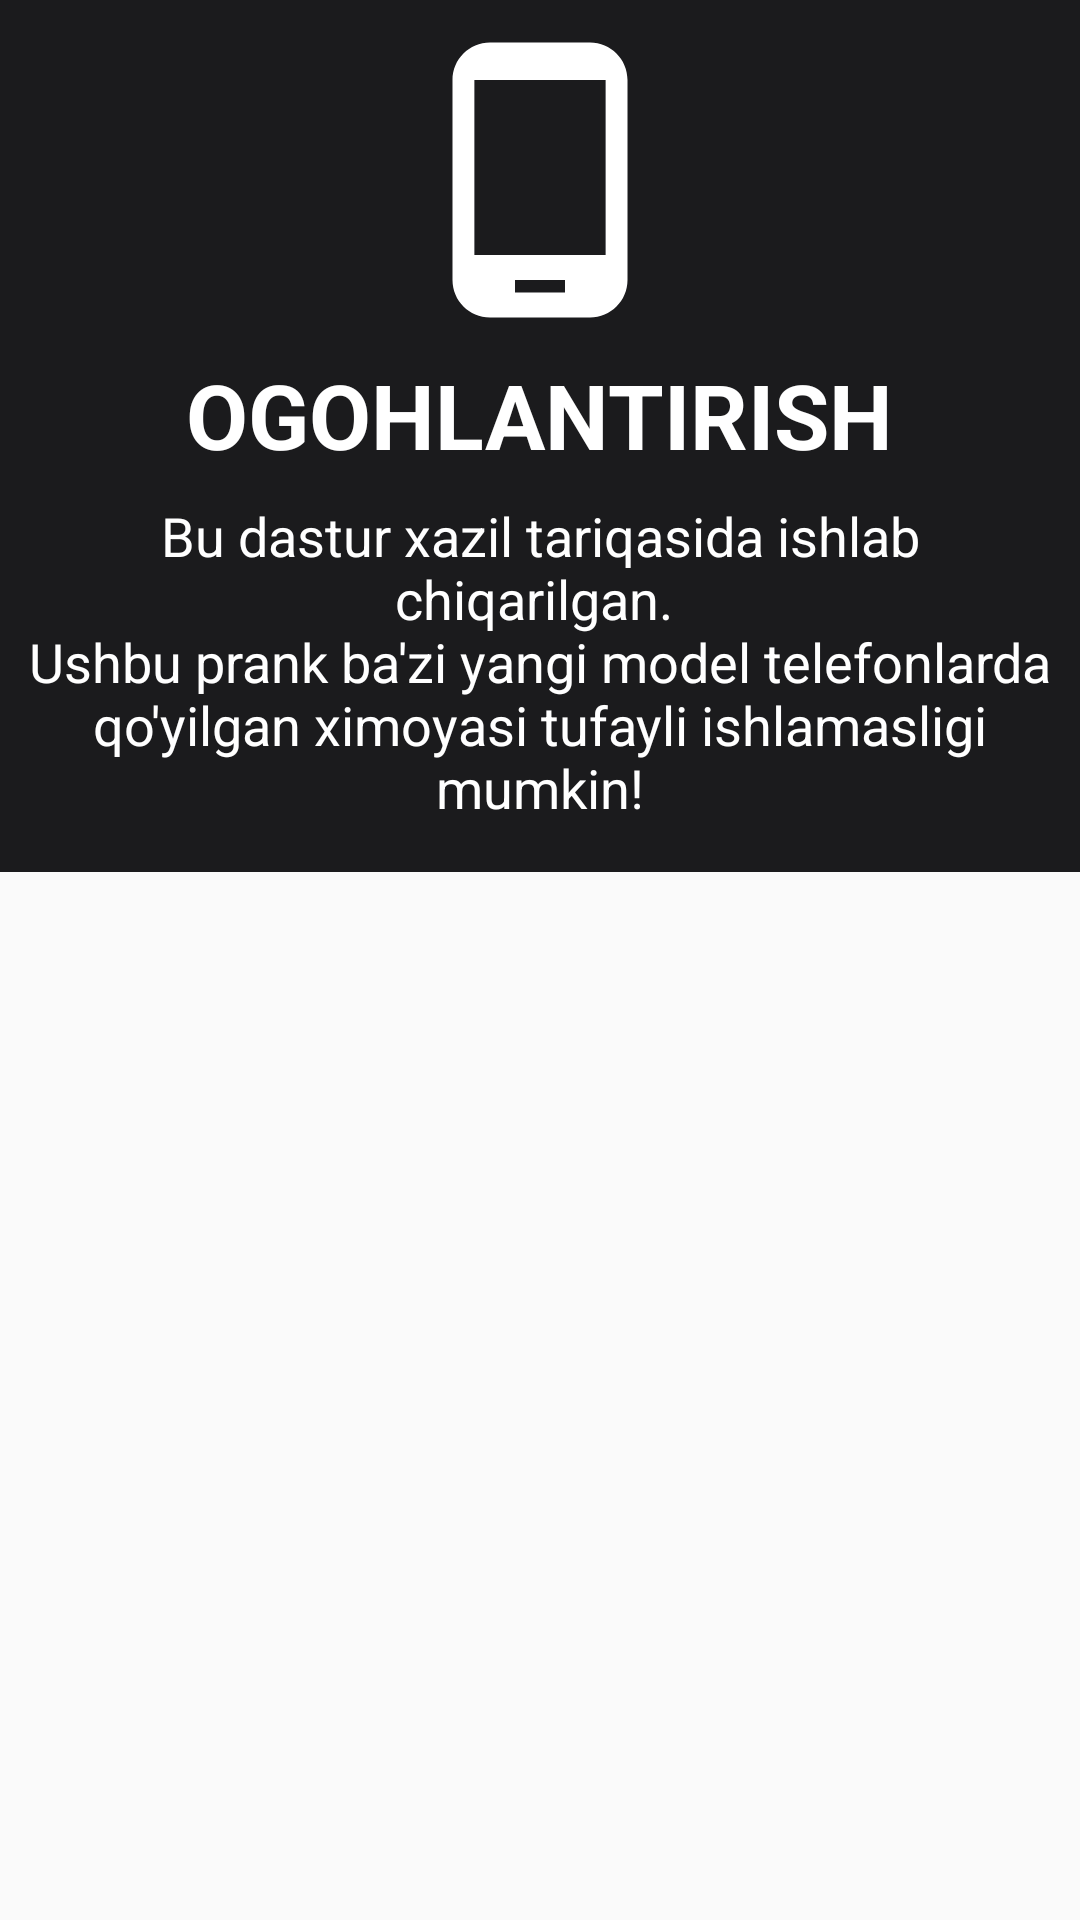

Screen size 1080*1920. Icon name, then its center in pixels as (x,y):
phone: (540,180)
